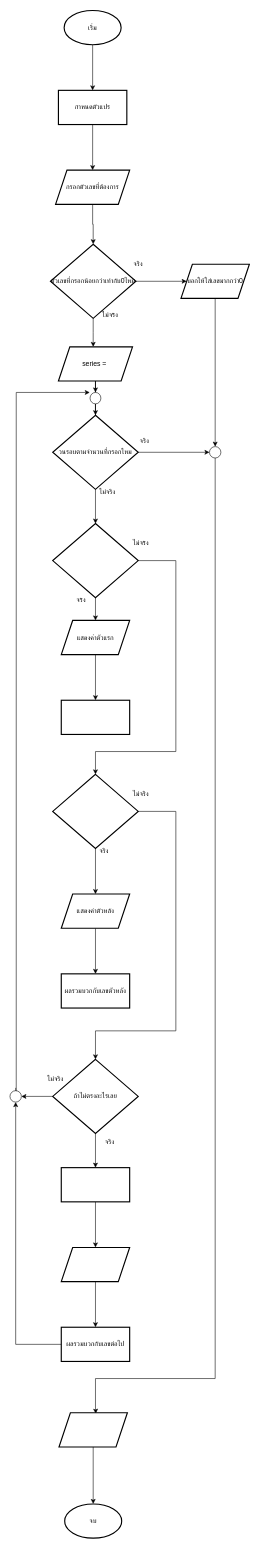
The diagram is 260 pixels wide and 1548 high, and some of its shapes have lost their labels. The shapes that lost their labels are listed below. From the top down, each one's centre as x and y in pixels, then its label:
At pixel 95 560: "ถ้าเลขเป็น1".
At pixel 95 717: "ผลรวมบวกกับเลขตัวแรก".
At pixel 95 811: "ถ้าเลขเป็น2".
At pixel 95 1184: "กำหนดตัวแปรให้ เลขต่อไปเท่ากับเลขแรกบวกเลขหลัง".
At pixel 95 1264: "แสดงเลขต่อไป".
At pixel 93 1429: "แสดงค่าผลรวมทั้งหมด".
